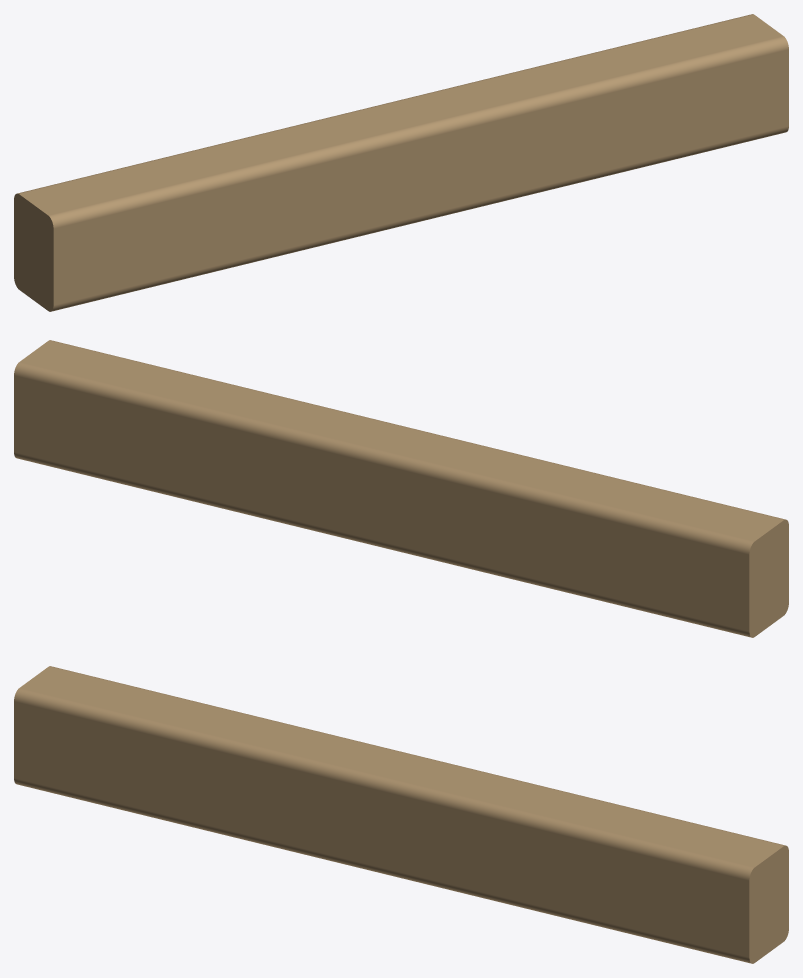
The model's file is esp2023_p09_oak_fender.glb.
3 views of the same model, one above another, from view 1: azimuth 30°, elevation 25°; view 2: azimuth 150°, elevation 25°; view 3: azimuth 330°, elevation 25° (orthographic).
Parts seen in each view (by area): view 1: oak fender; view 2: oak fender; view 3: oak fender.
Boxes of the visible parts, left/top/right/bottom form: oak fender: left=14, top=14, right=788, bottom=311; oak fender: left=14, top=340, right=788, bottom=637; oak fender: left=14, top=666, right=788, bottom=963.
Bounding box in the file's own units: 1610 × 200 × 150.
